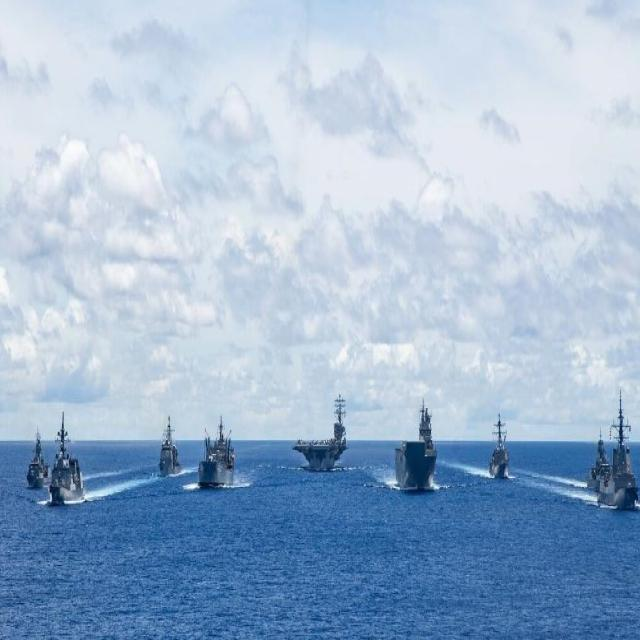navalvessels: (397, 396, 457, 489), (291, 396, 358, 466), (605, 392, 640, 512), (48, 410, 83, 517), (579, 422, 614, 502), (202, 423, 241, 494), (487, 418, 521, 485), (22, 412, 44, 502), (161, 408, 181, 488)
